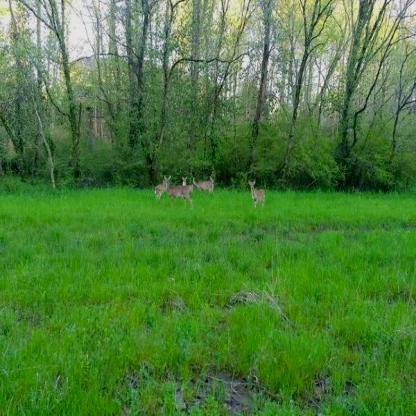Deer: (163, 176, 193, 212), (188, 176, 214, 200), (153, 177, 175, 204), (248, 178, 266, 210)
